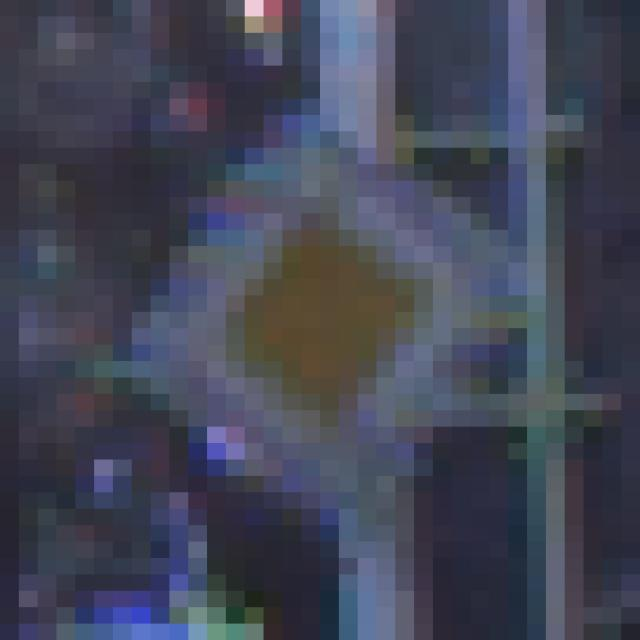Main Road: (95, 83, 547, 559)
